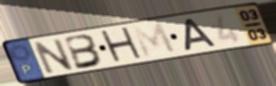4: (215, 11, 243, 46)
A: (183, 17, 219, 53)
B: (62, 33, 105, 71)
H: (98, 25, 146, 65)
M: (130, 21, 180, 59)
N: (30, 37, 77, 76)
